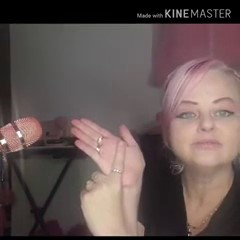L: (65, 109, 152, 233)
